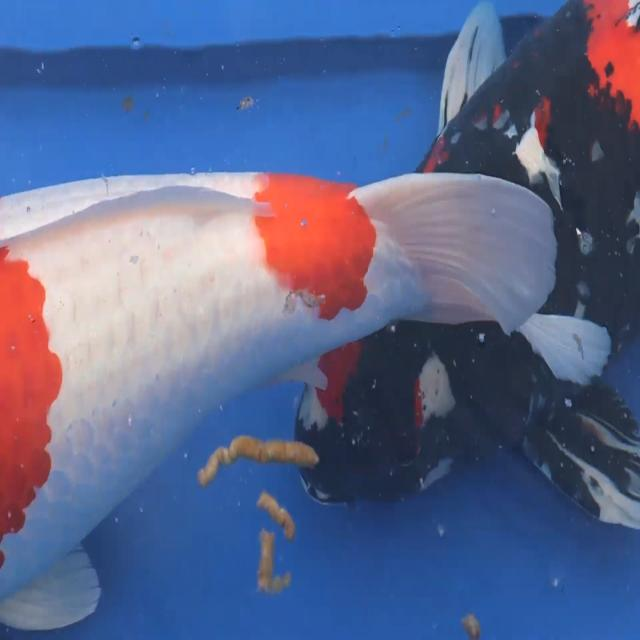Kohaku: (0, 168, 562, 630)
Showa: (293, 0, 639, 536)
